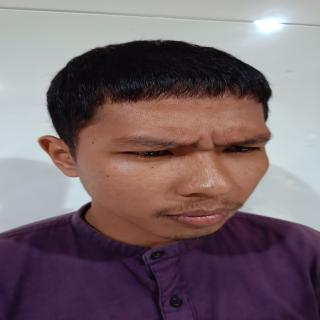Marah: (77, 78, 282, 243)
